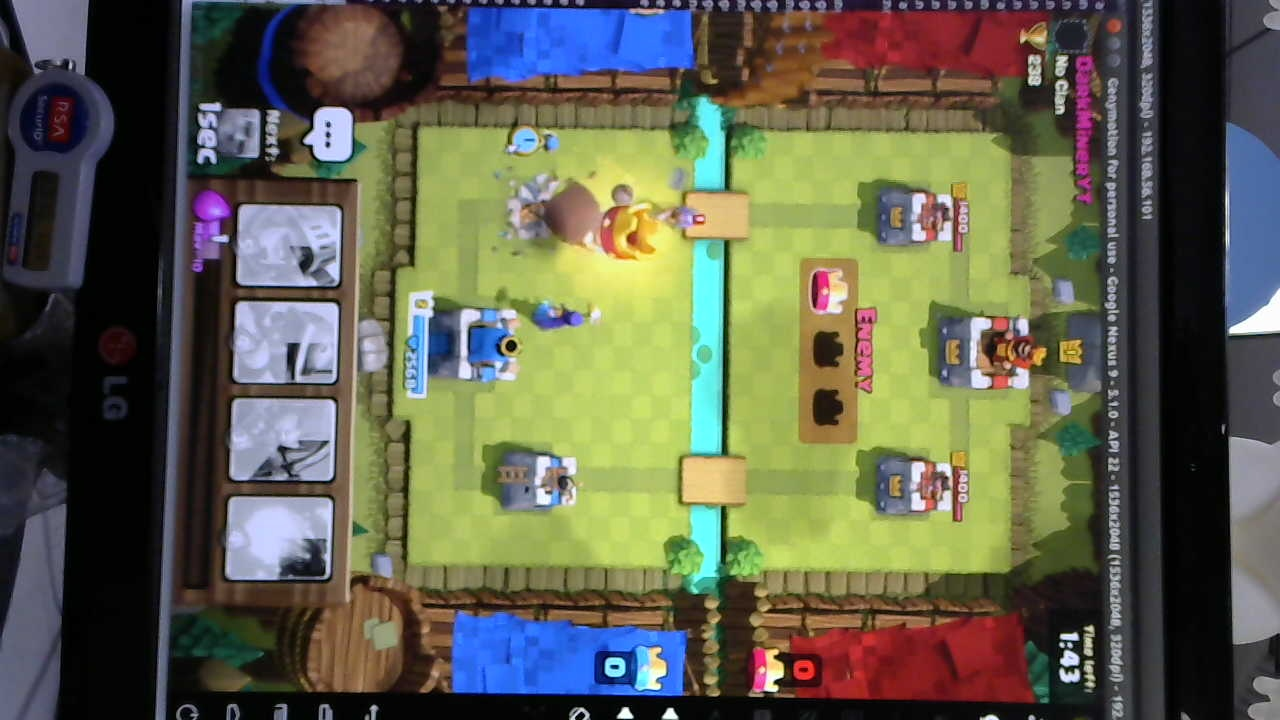arena: (494, 449, 581, 513)
bomb: (532, 122, 562, 153)
earena: (872, 455, 954, 520), (872, 188, 958, 249)
eking: (933, 315, 1044, 391)
king: (428, 304, 529, 384)
musketeer: (650, 202, 697, 232)
witch: (527, 294, 600, 331)
